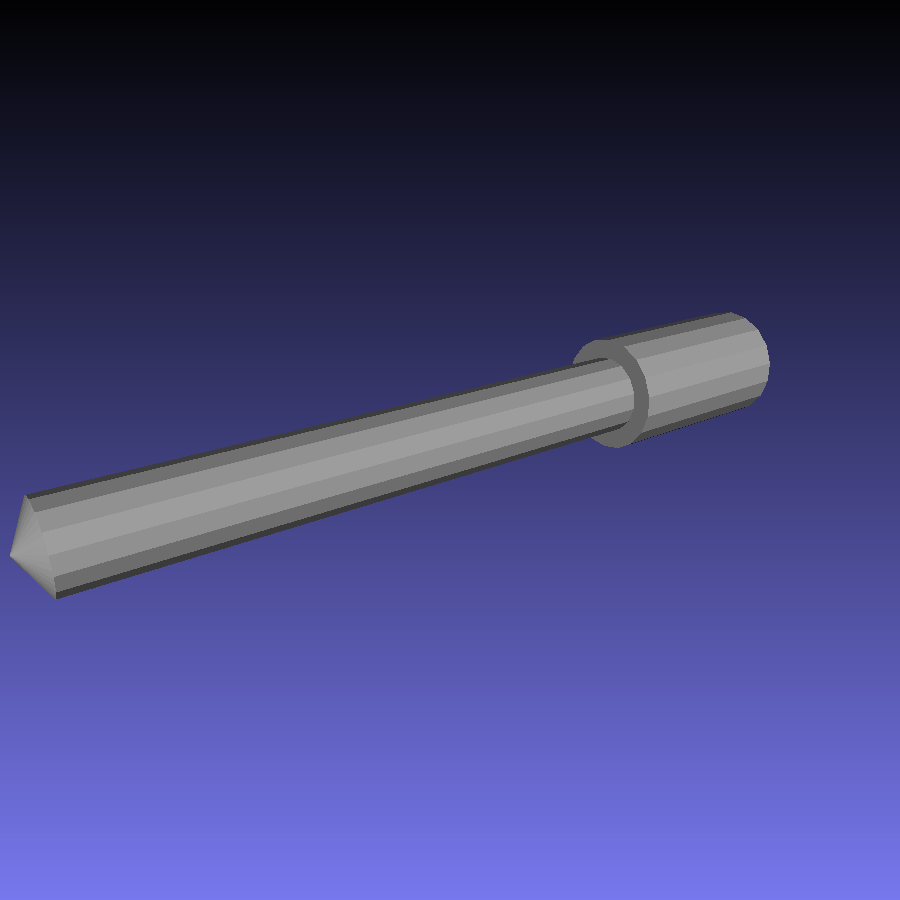cargo_g: (10, 309, 772, 598)
